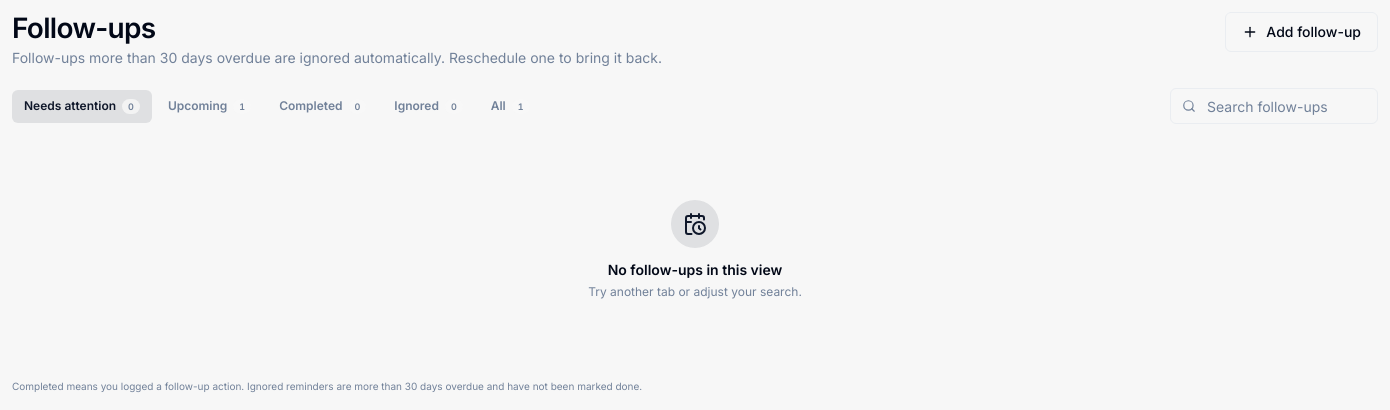
Test case: FollowUps › changes application status inline and removes a rejected pending reminder
Click the tab "Upcoming1" at {"x": 210, "y": 106}, box [156, 90, 263, 122]
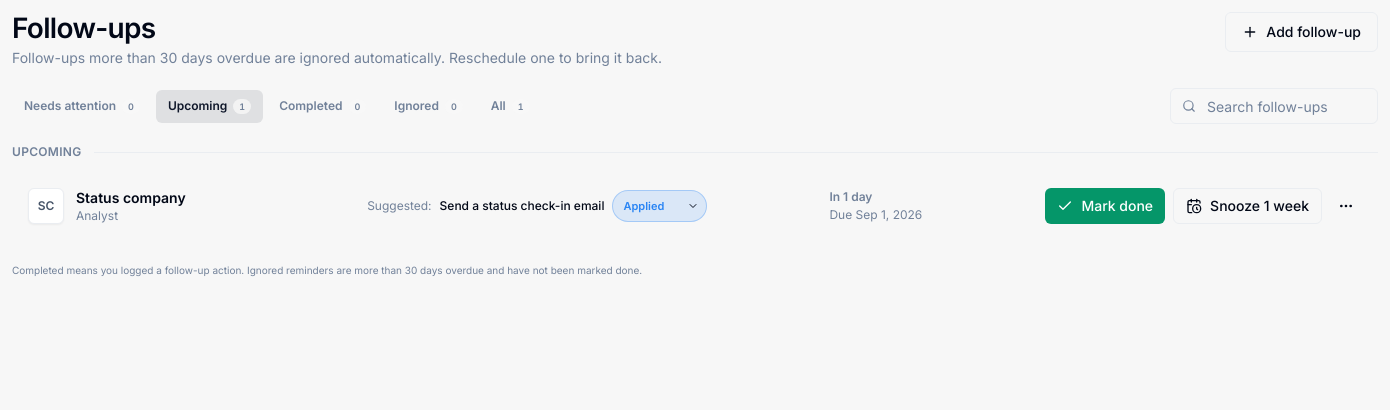
Select "Rejected" in the dropdown named "Change status for Analyst at Status company" at {"x": 660, "y": 206}, box [612, 190, 707, 222]
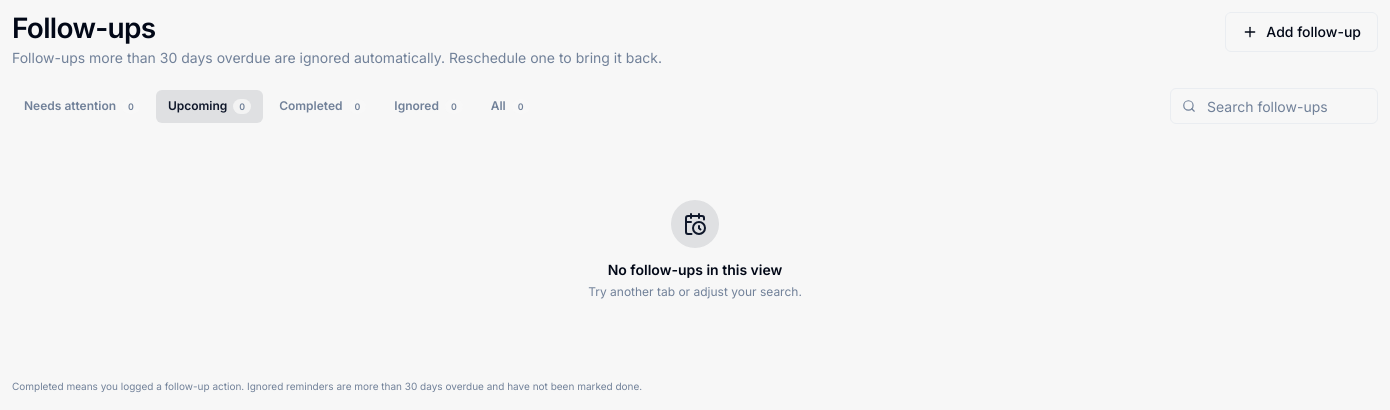
Now the text "Status company" is gone
